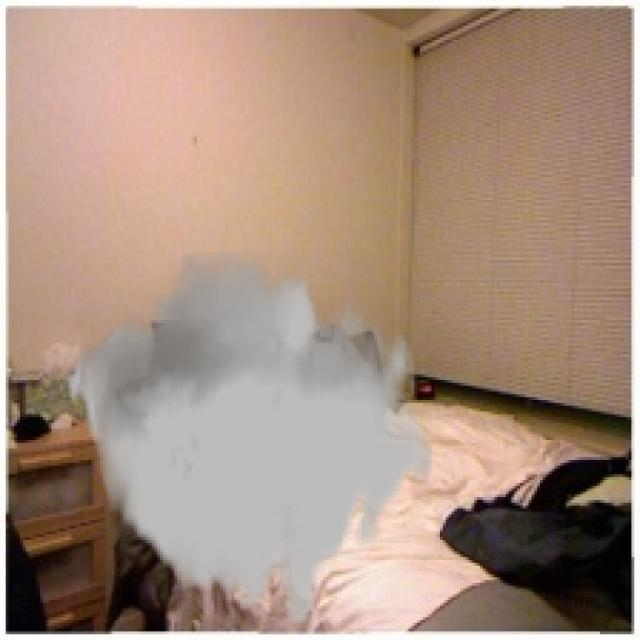Smoke: (66, 251, 434, 623)
